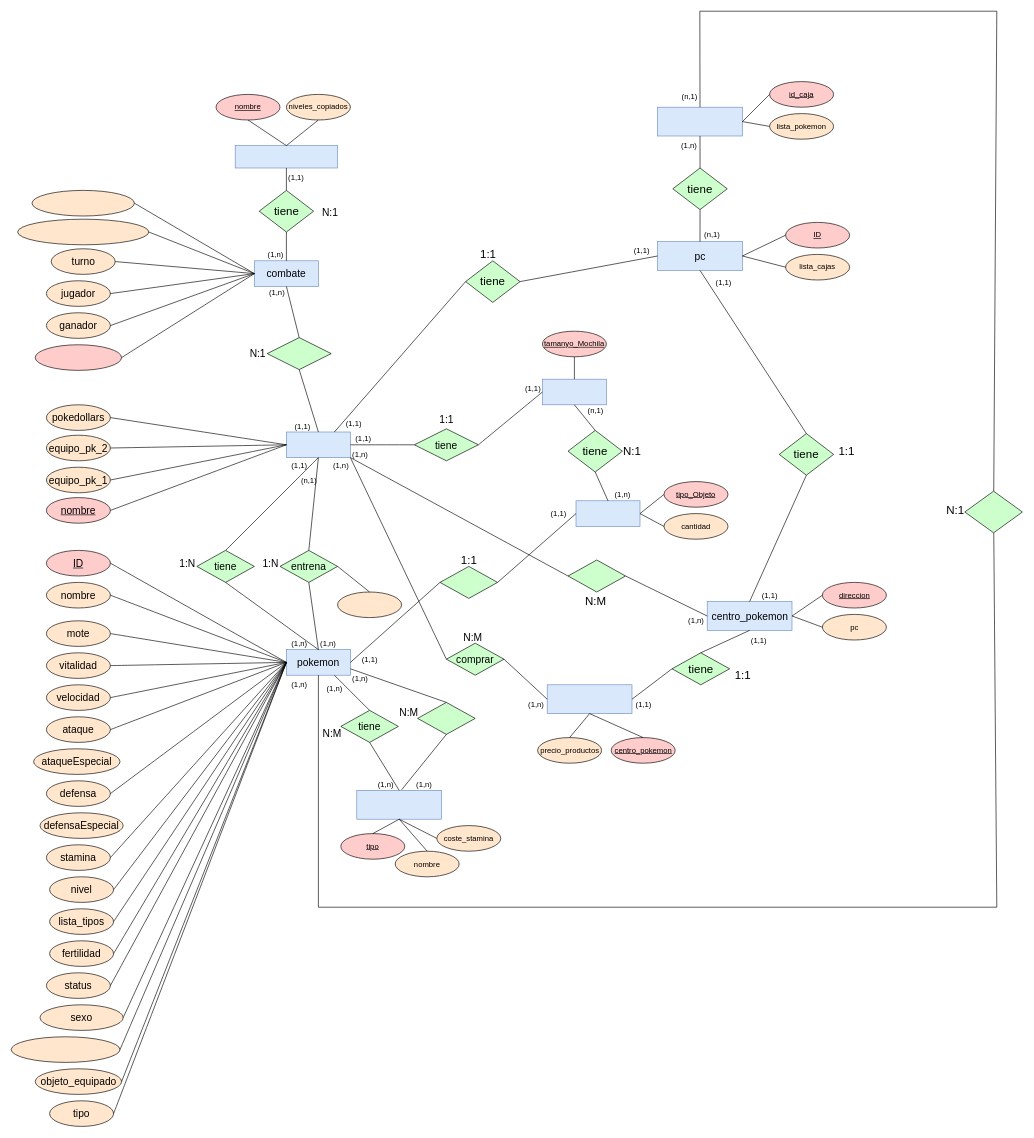
Some shapes in this 1034 by 1138 pixel diagram are drawn without their labels. The shapes that lost their labels are listed below. From the top down, each one's box as (x1, y1, x2, y2) in pixels, then its label:
(657, 107, 742, 136): caja_Pokemon
(235, 145, 338, 168): entrenador_aleatorio
(31, 190, 134, 216): pokemon_ko_rival
(17, 219, 149, 245): pokemon_ko_entrenador
(35, 344, 122, 370): num_historial_combate
(267, 337, 331, 370): hacer
(542, 379, 606, 405): mochila
(286, 431, 350, 458): Entrenador
(575, 500, 640, 526): objeto
(964, 491, 1022, 533): contiene
(439, 566, 498, 598): equipa
(567, 559, 626, 592): accede
(337, 591, 402, 618): tipo_entrenamiento
(417, 702, 475, 734): usar
(547, 684, 632, 714): tienda
(356, 790, 442, 819): movimiento
(11, 1036, 120, 1062): movimientos_activos
